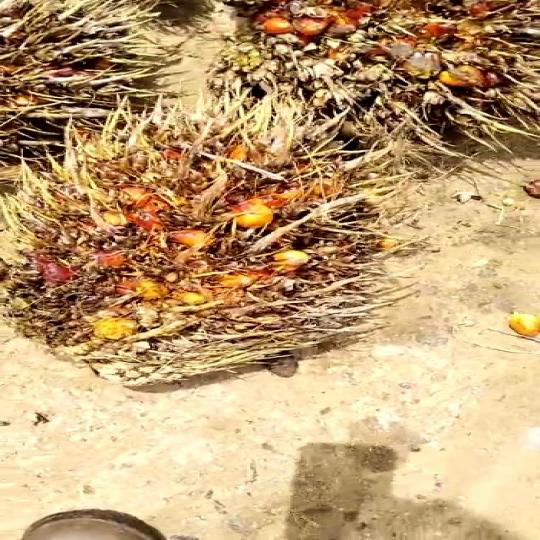terlalu masak: (1, 87, 468, 419)
